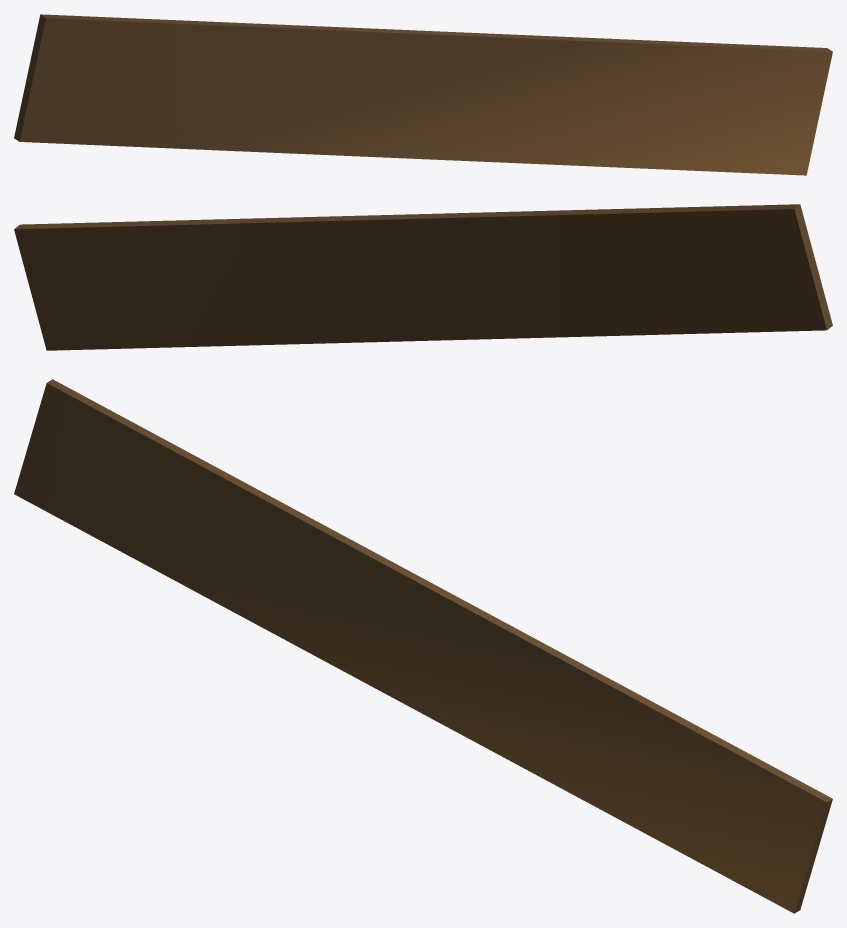
File: woodplank.fbx
The picture shows the model from 3 angles, top to bottom: view 1: azimuth 30°, elevation 25°; view 2: azimuth 150°, elevation 25°; view 3: azimuth 330°, elevation 25°; orthographic projection.
Visible parts, largest first — view 1: polySurface984; view 2: polySurface984; view 3: polySurface984.
Part boxes in pixels (x1,y1,x2,y2): polySurface984: (14,14,832,175); polySurface984: (14,204,832,350); polySurface984: (14,379,832,913).
Size of the model in its own units: 35.54 by 13.96 by 1.37.
1 material, 1 textured.
